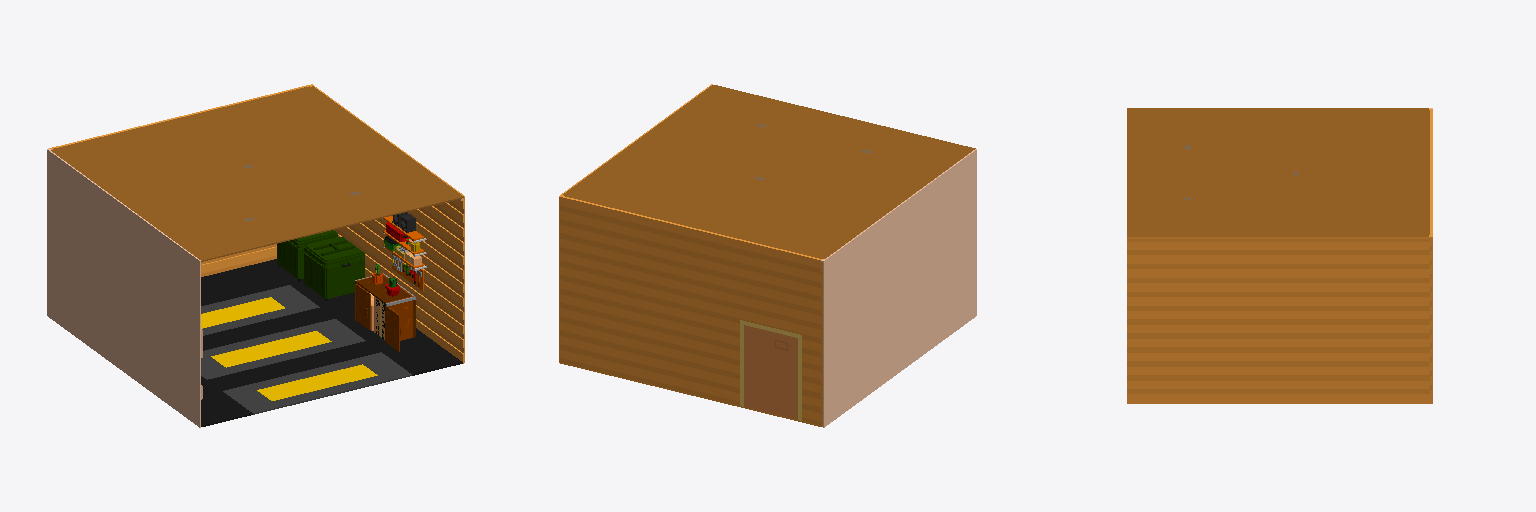
The picture shows the model from 3 angles: view 1: azimuth 30°, elevation 25°; view 2: azimuth 150°, elevation 25°; view 3: azimuth 270°, elevation 25°; orthographic projection.
Visible parts, largest first — view 1: object 1; view 2: object 1; view 3: object 1.
Part boxes in pixels (x1,y1,x2,y2): object 1: (47, 84, 464, 427); object 1: (559, 84, 976, 427); object 1: (1127, 108, 1432, 403).
Bounding box in the file's own units: 20 × 12 × 20.
1 materials, 1 textured.